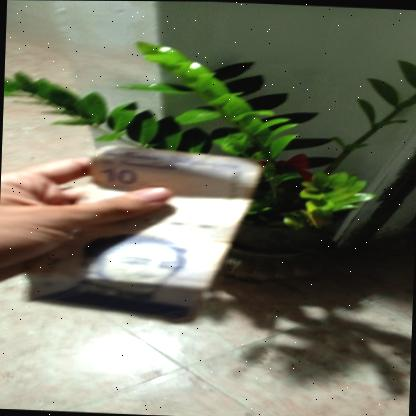ten-front-vef: (26, 145, 260, 326)
